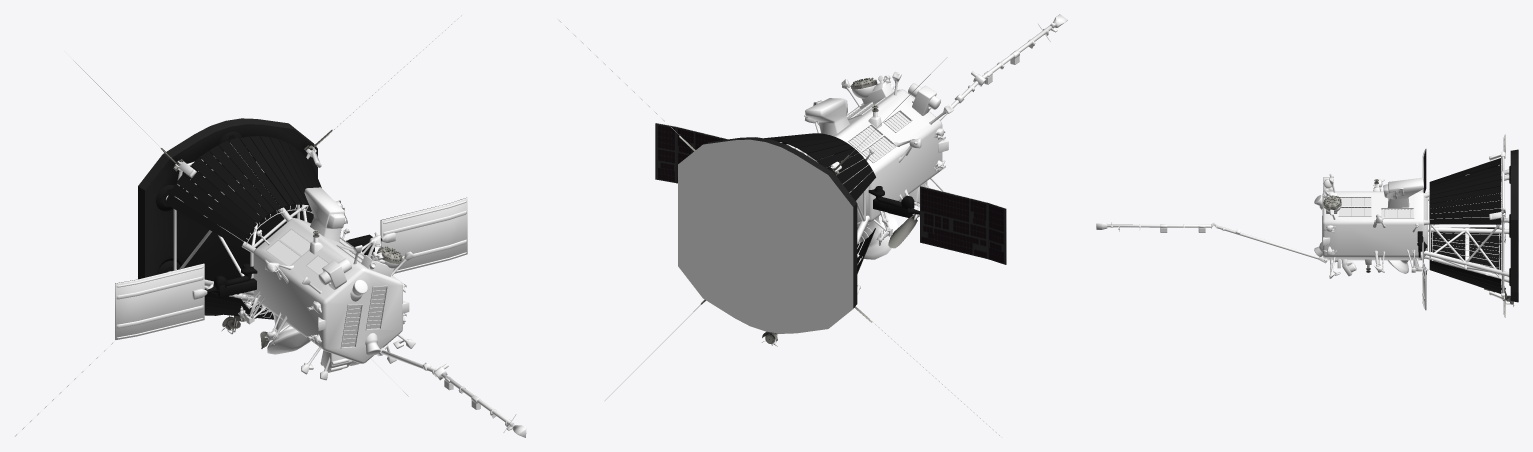
Rendered from ship.glb.
3 views of the same model, side by side, from view 1: azimuth 30°, elevation 25°; view 2: azimuth 150°, elevation 25°; view 3: azimuth 270°, elevation 25° (orthographic). The views are drawn at different scales.
Parts seen in each view (by area): view 1: BUS, CoolingSystem, Instruments, magnetometers, solarArray_arms, HGA; view 2: Instruments, BUS, CoolingSystem, magnetometers, solarArray_arms; view 3: BUS, CoolingSystem, Instruments, magnetometers.
Boxes of the visible parts, x1,y1,x2,y2 form: BUS: (115,143,526,437); CoolingSystem: (156,131,321,319); Instruments: (115,118,466,348); magnetometers: (14,14,516,436); solarArray_arms: (206,234,381,297); HGA: (267,331,310,354); Instruments: (655,77,1006,346); BUS: (656,14,1067,294); CoolingSystem: (764,133,875,273); magnetometers: (556,17,1050,437); solarArray_arms: (868,186,919,217); BUS: (1096,148,1509,310); CoolingSystem: (1429,158,1510,293); Instruments: (1323,134,1518,317); magnetometers: (1118,165,1511,304).
Size of the model in its own units: 5.75 by 5.26 by 6.61.
Materials: 7 (2 with a texture image).
